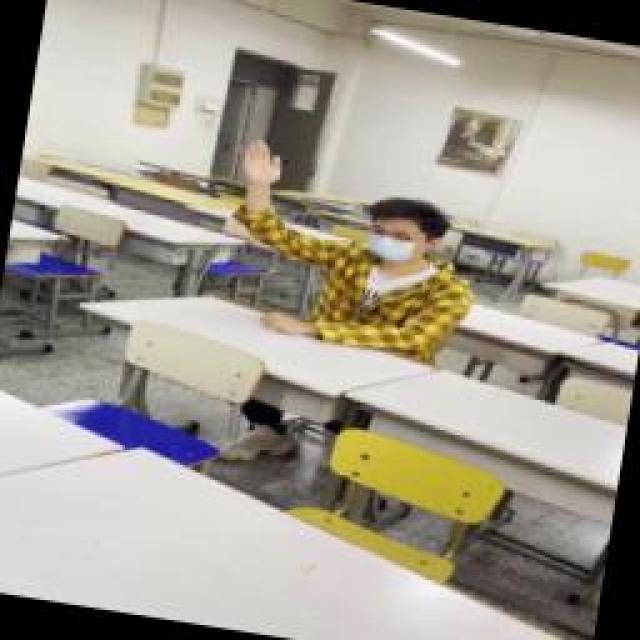study: (220, 140, 485, 362)
